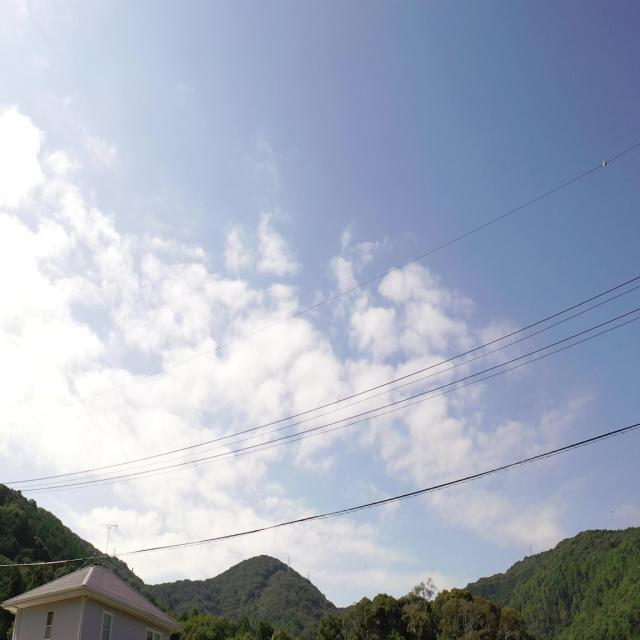Birds: (84, 556, 107, 572)
